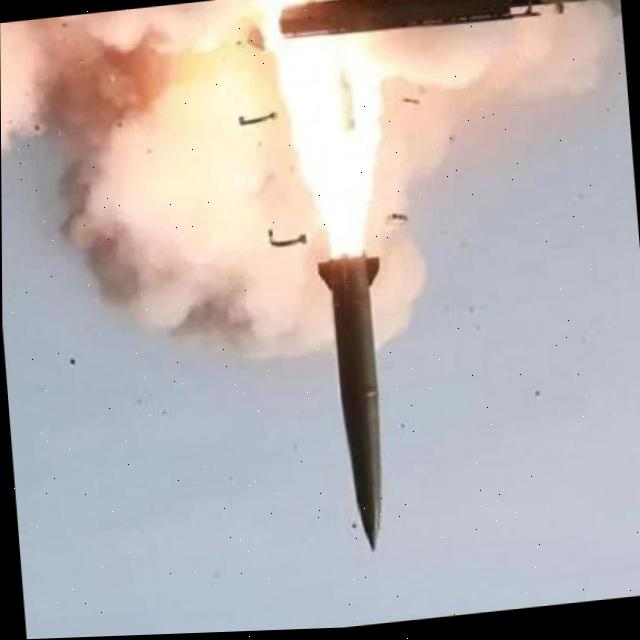missile: (308, 239, 410, 561)
